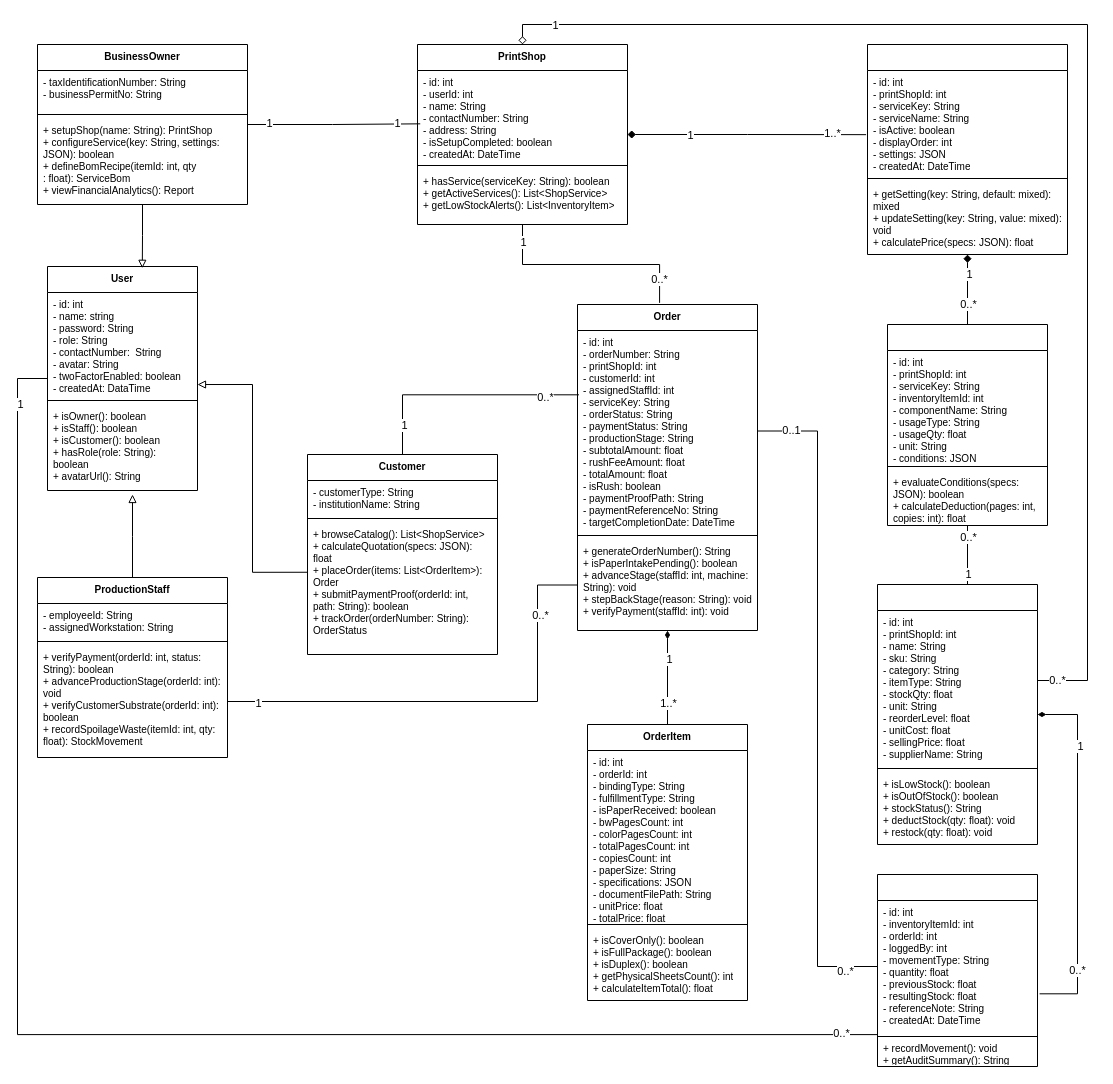
This 1113x1084 diagram has some shape labels left out. The box of each missing label's shape, as (x1, y1, x2, y2) in pixels:
InventoryItem: (876, 584, 1038, 844)
ServiceBom: (886, 324, 1048, 526)
ShopService: (866, 44, 1068, 254)
StockMovement: (876, 874, 1038, 1066)
